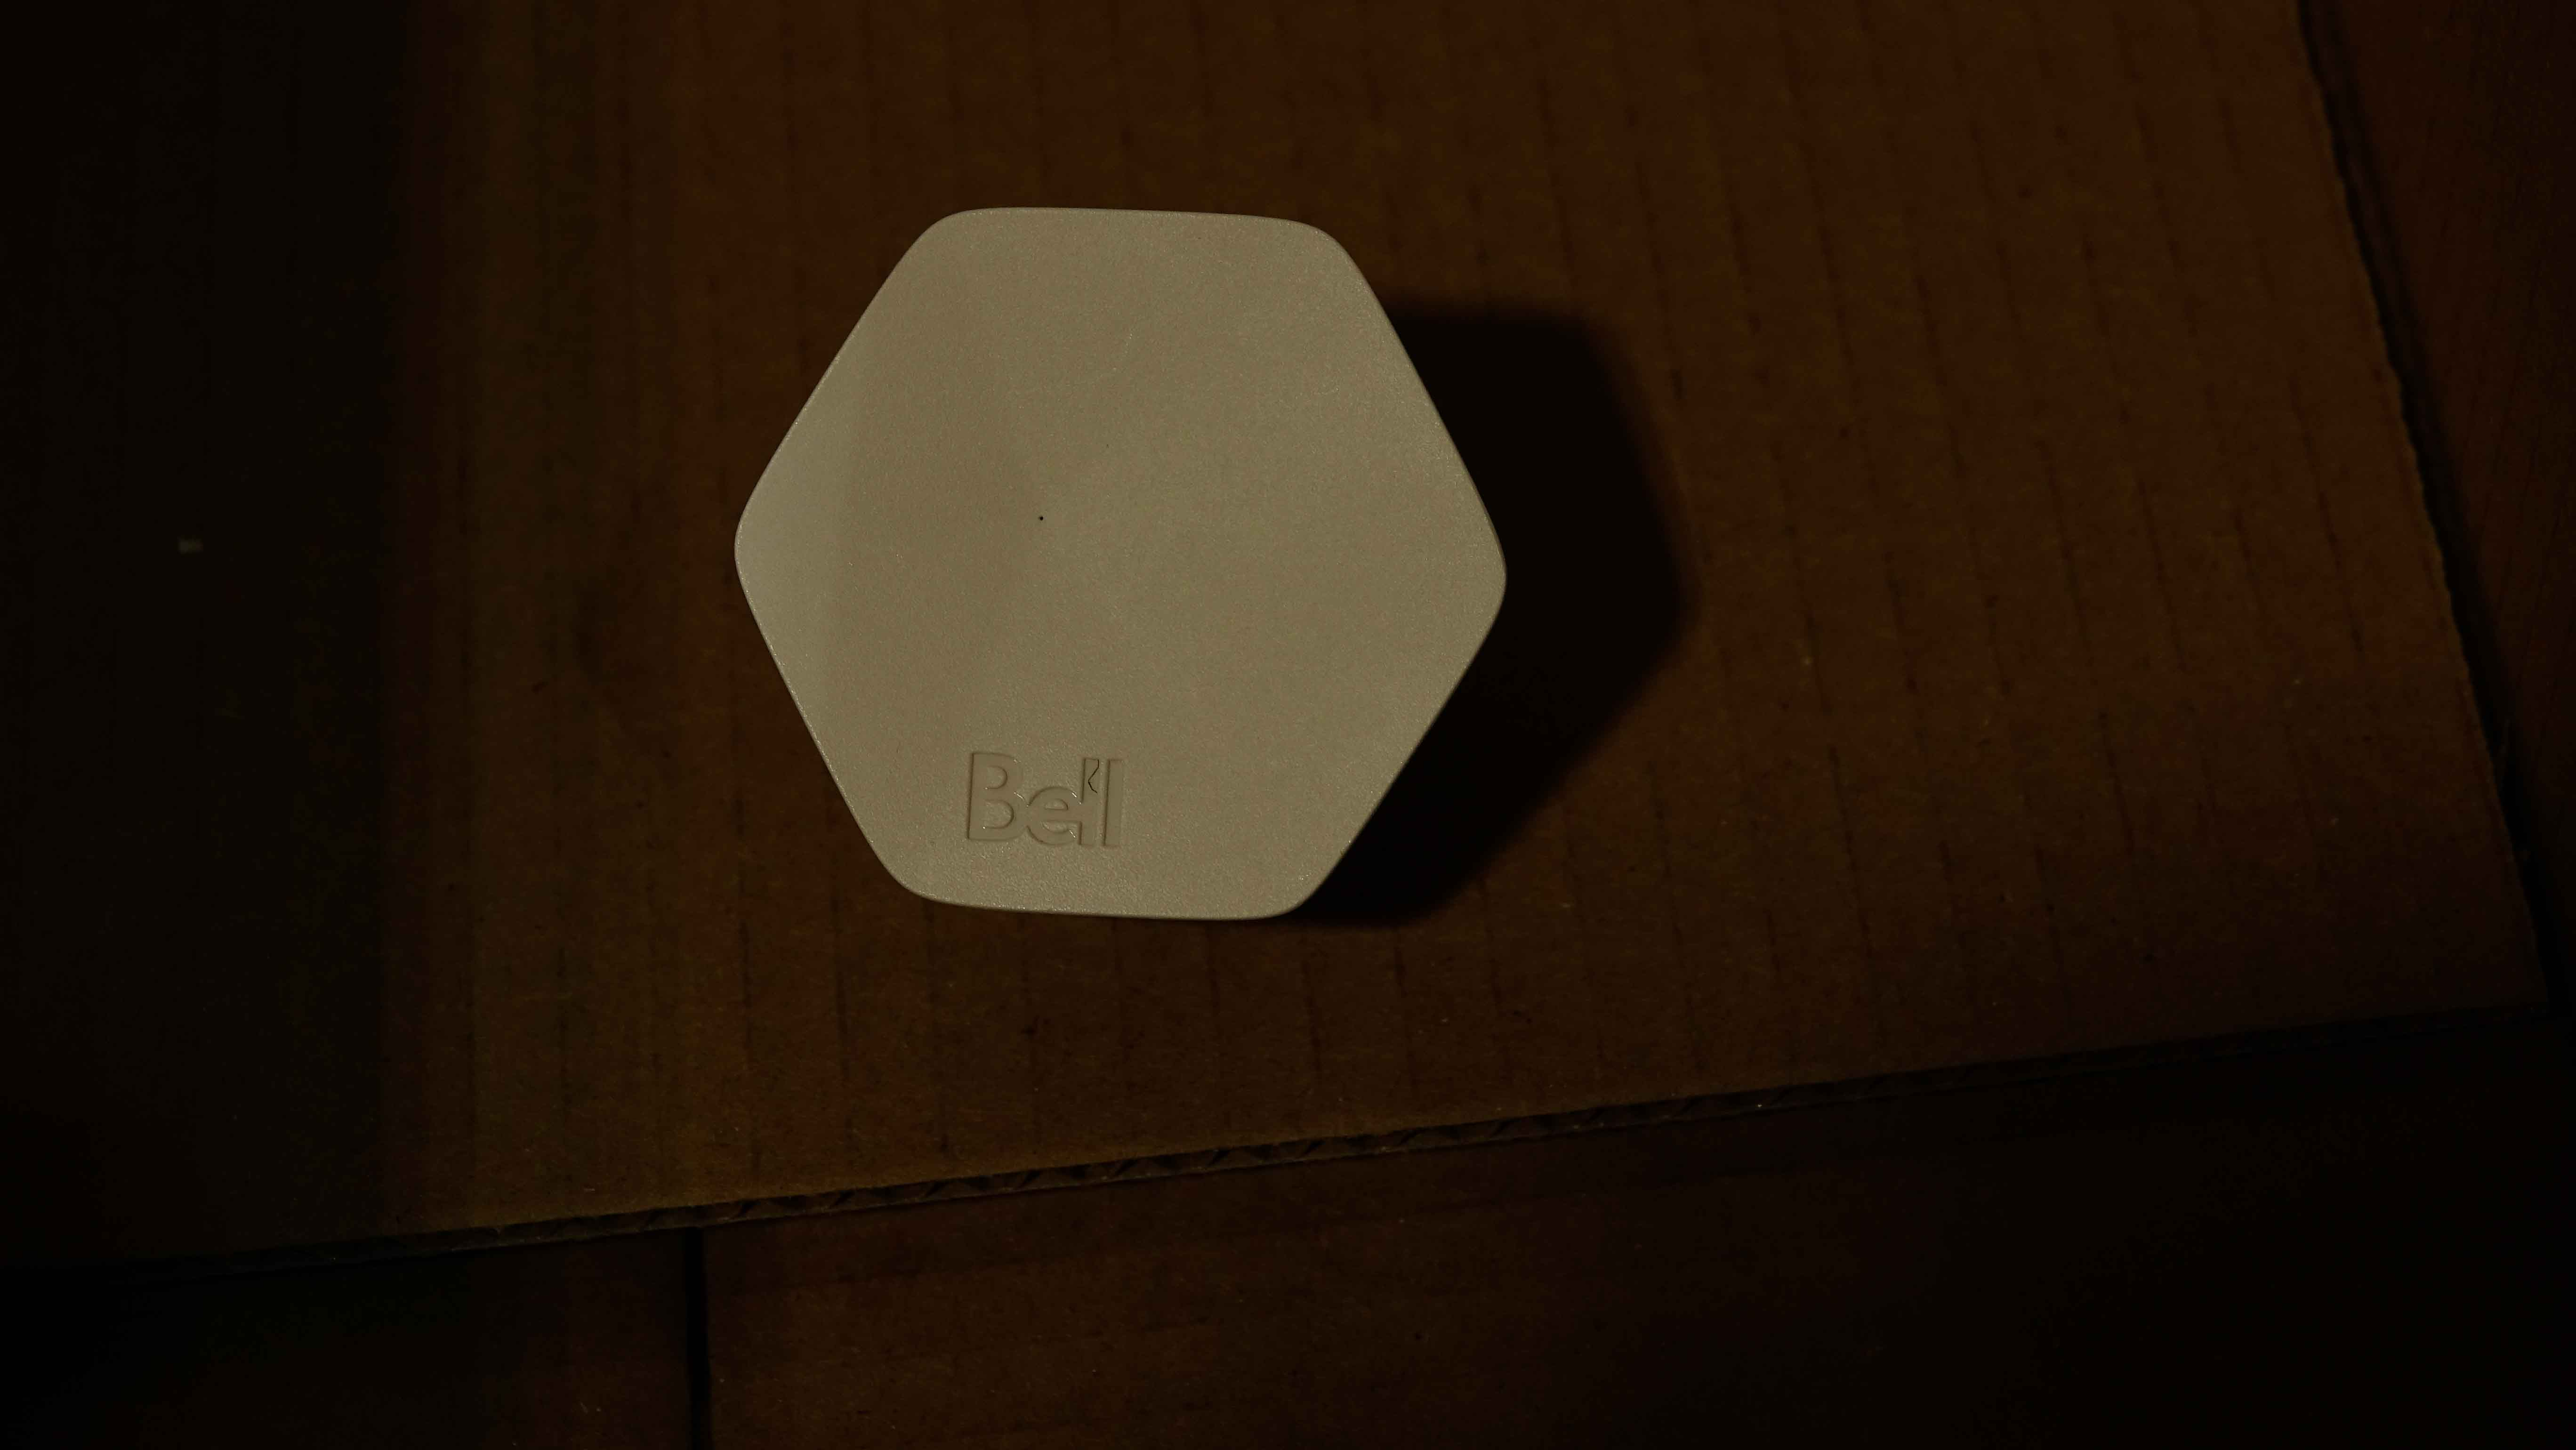pod: (724, 200, 1518, 937)
